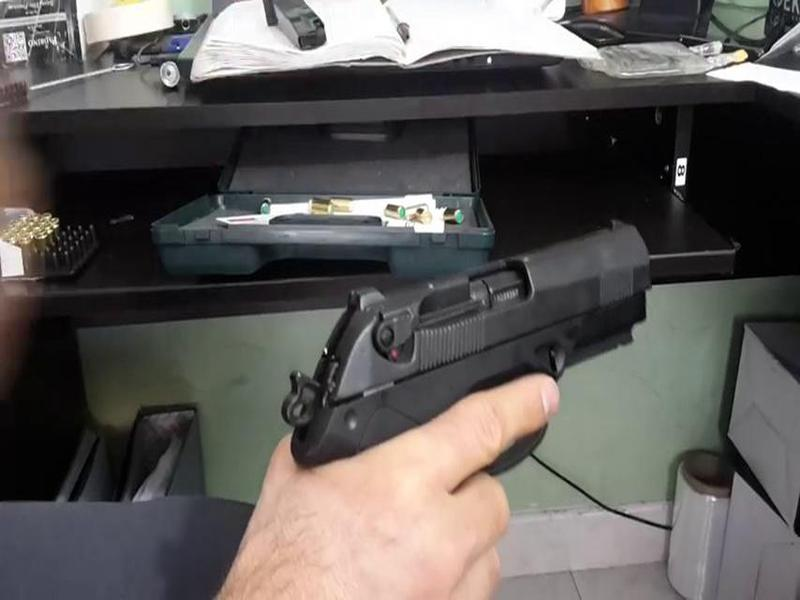Pistola: (285, 214, 699, 493)
